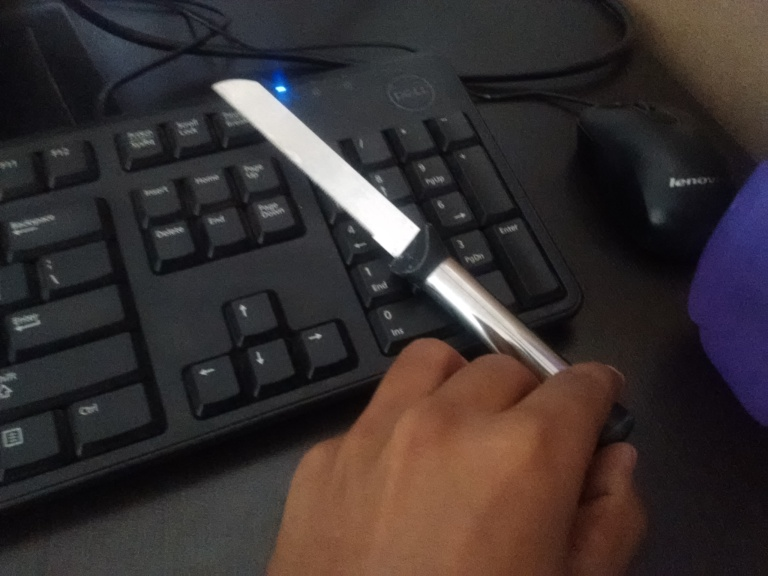knife: (208, 77, 560, 378)
